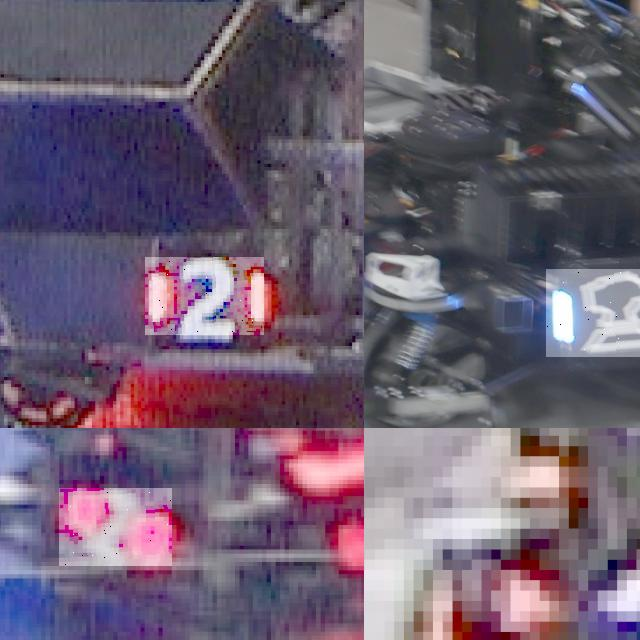Bs: (546, 269, 640, 356)
R2: (145, 257, 264, 335), (59, 488, 172, 566), (329, 496, 364, 578)
